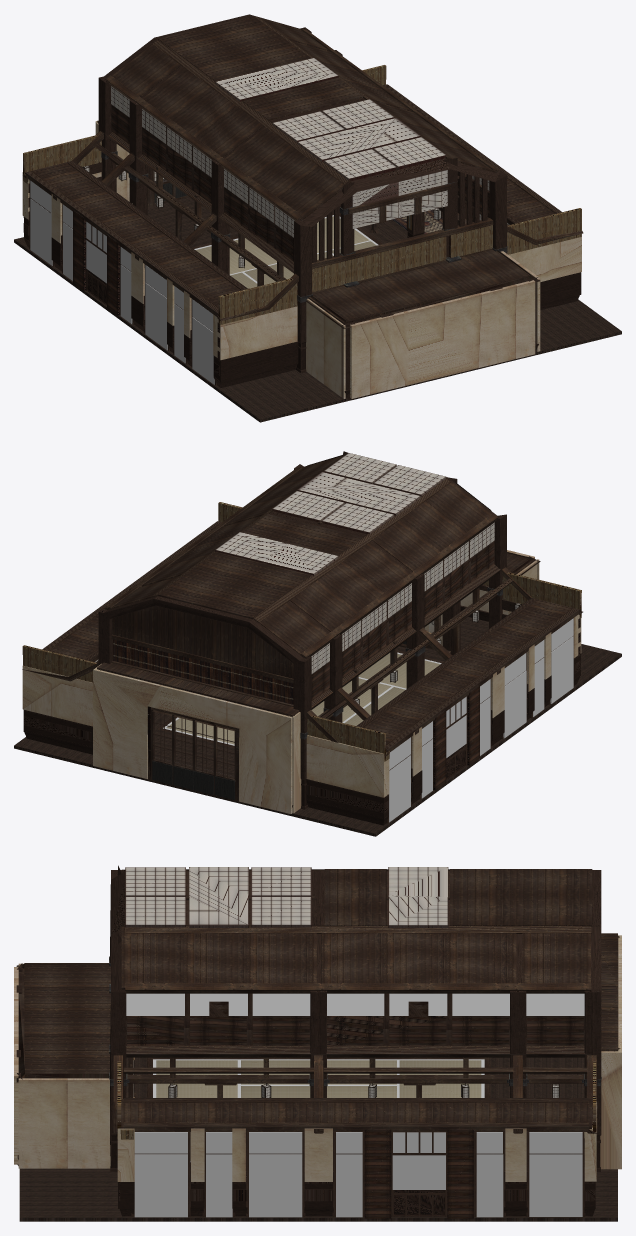
Rendered from Unity2Skfb.gltf.
The picture shows the model from 3 angles, top to bottom: view 1: azimuth 30°, elevation 25°; view 2: azimuth 150°, elevation 25°; view 3: azimuth 270°, elevation 25°; orthographic projection. The views are drawn at different scales.
Parts seen in each view (by area): view 1: node_dojo_2010_-20112; view 2: node_dojo_2010_-20112; view 3: node_dojo_2010_-20112.
Boxes of the visible parts, x1,y1,x2,y2 form: node_dojo_2010_-20112: (14, 14, 621, 422); node_dojo_2010_-20112: (14, 451, 621, 836); node_dojo_2010_-20112: (14, 865, 621, 1221).
Bounding box in the file's own units: 1919 × 906 × 2286.
Materials: 38 (35 with a texture image).
